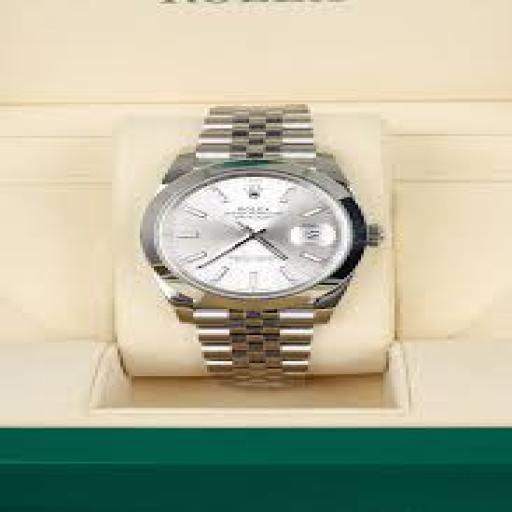KolSaati: (118, 60, 414, 425)
